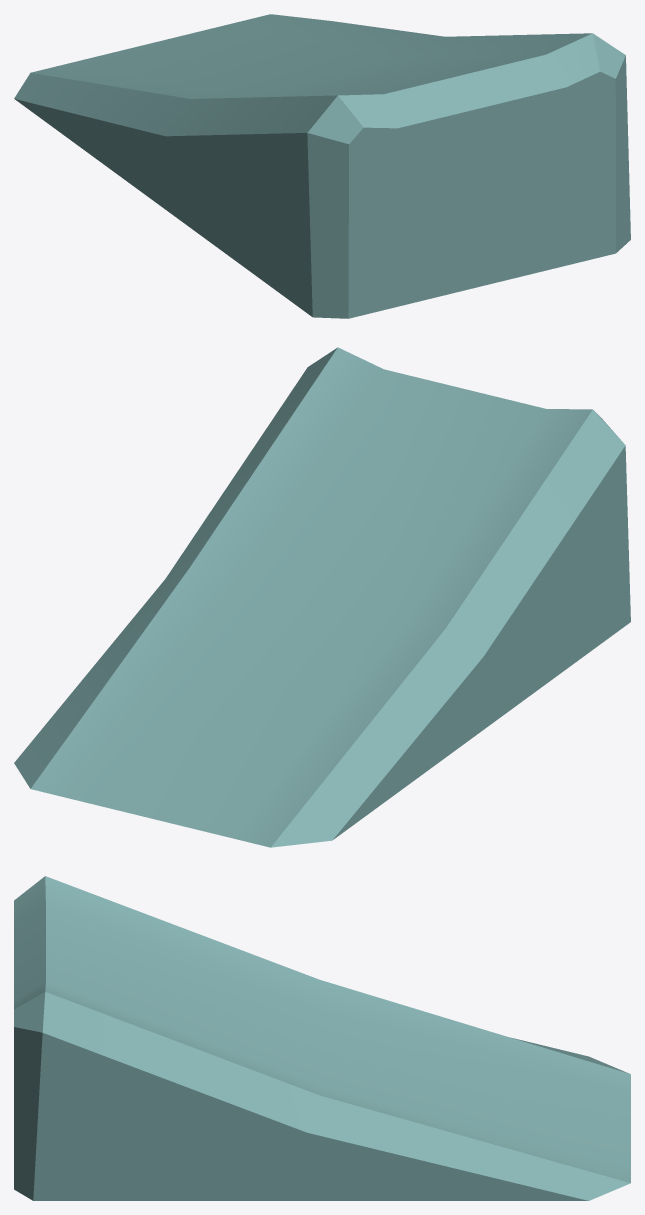
The model's file is SM_Ramp_Block.fbx.
The picture shows the model from 3 angles, top to bottom: view 1: azimuth 30°, elevation 25°; view 2: azimuth 150°, elevation 25°; view 3: azimuth 270°, elevation 25°; orthographic projection. The views are drawn at different scales.
Visible parts, largest first — view 1: pCube14; view 2: pCube14; view 3: pCube14.
Part boxes in pixels (box(x1,y1,x2,y2)): pCube14: box(14, 14, 630, 318); pCube14: box(14, 347, 630, 847); pCube14: box(14, 876, 630, 1200).
Bounding box in the file's own units: 592 × 372 × 1068.
